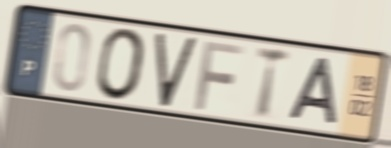0: (51, 20, 92, 95)
A: (286, 55, 340, 128)
F: (192, 37, 249, 113)
O: (95, 25, 149, 103)
T: (253, 43, 294, 122)
V: (153, 32, 200, 110)
